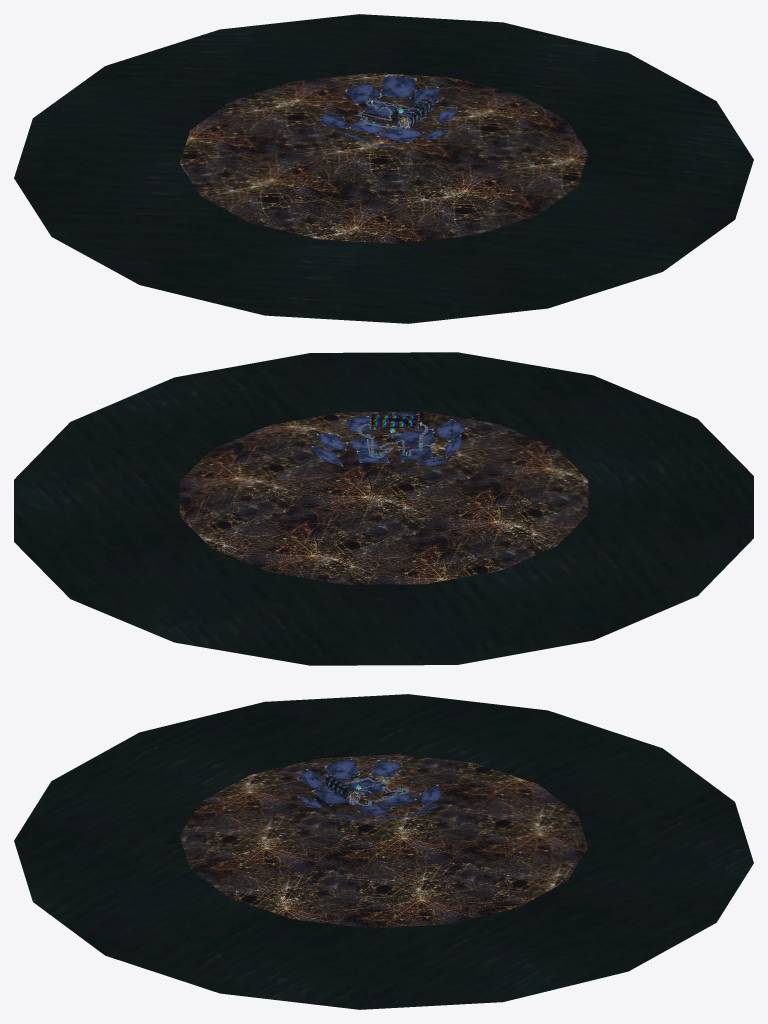
3 renders of one model, top to bottom at view 1: azimuth 30°, elevation 25°; view 2: azimuth 150°, elevation 25°; view 3: azimuth 270°, elevation 25°, orthographic.
Visible parts, largest first — view 1: water.002, earth, clouds; view 2: water.002, earth, clouds, warp_star_particles; view 3: water.002, earth, clouds.
Boxes of the visible parts, x1,y1,x2,y2 form: water.002: [14, 14, 753, 323]; earth: [180, 73, 588, 243]; clouds: [319, 75, 457, 145]; water.002: [14, 352, 753, 665]; earth: [179, 411, 588, 584]; clouds: [311, 412, 467, 469]; warp_star_particles: [371, 414, 417, 428]; water.002: [14, 694, 753, 1009]; earth: [180, 754, 587, 928]; clouds: [297, 759, 444, 818].
Bounding box in the file's own units: 970378 × 113314 × 970391.
23 materials, 23 textured.
